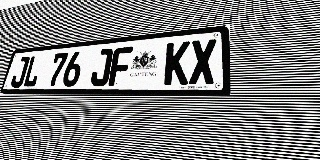6: (61, 51, 84, 87)
7: (46, 52, 69, 87)
F: (108, 46, 133, 86)
J: (89, 48, 114, 86), (9, 56, 30, 88)
K: (163, 41, 190, 85)
L: (22, 55, 43, 87)
X: (189, 39, 216, 85)
